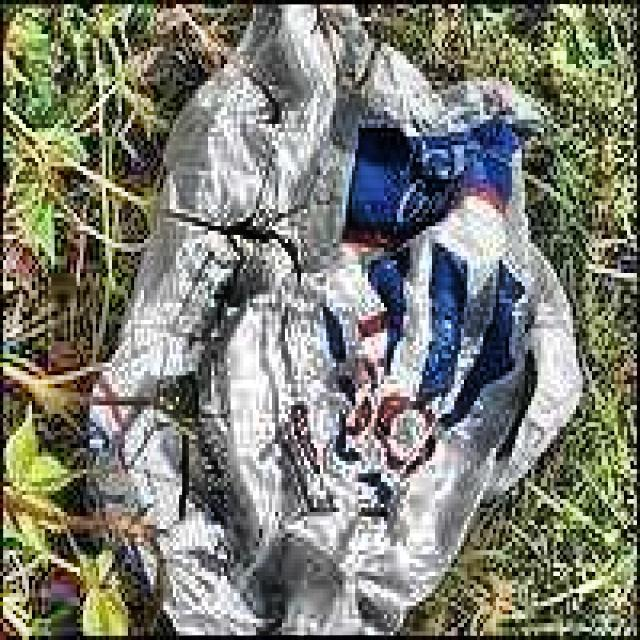Plastic: (86, 22, 584, 636)
